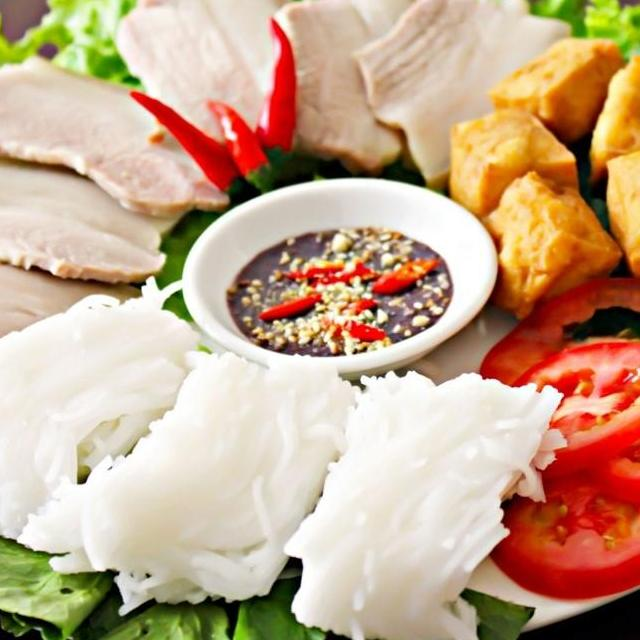bun: (0, 280, 573, 640)
bun dau: (0, 0, 640, 640)
dau hu: (468, 166, 628, 326), (433, 100, 582, 232), (484, 29, 628, 142), (576, 51, 640, 192), (594, 130, 640, 286)
thit heo: (342, 0, 580, 198), (0, 53, 247, 234), (108, 0, 304, 179), (272, 0, 454, 184), (0, 134, 197, 290), (0, 230, 160, 387)
